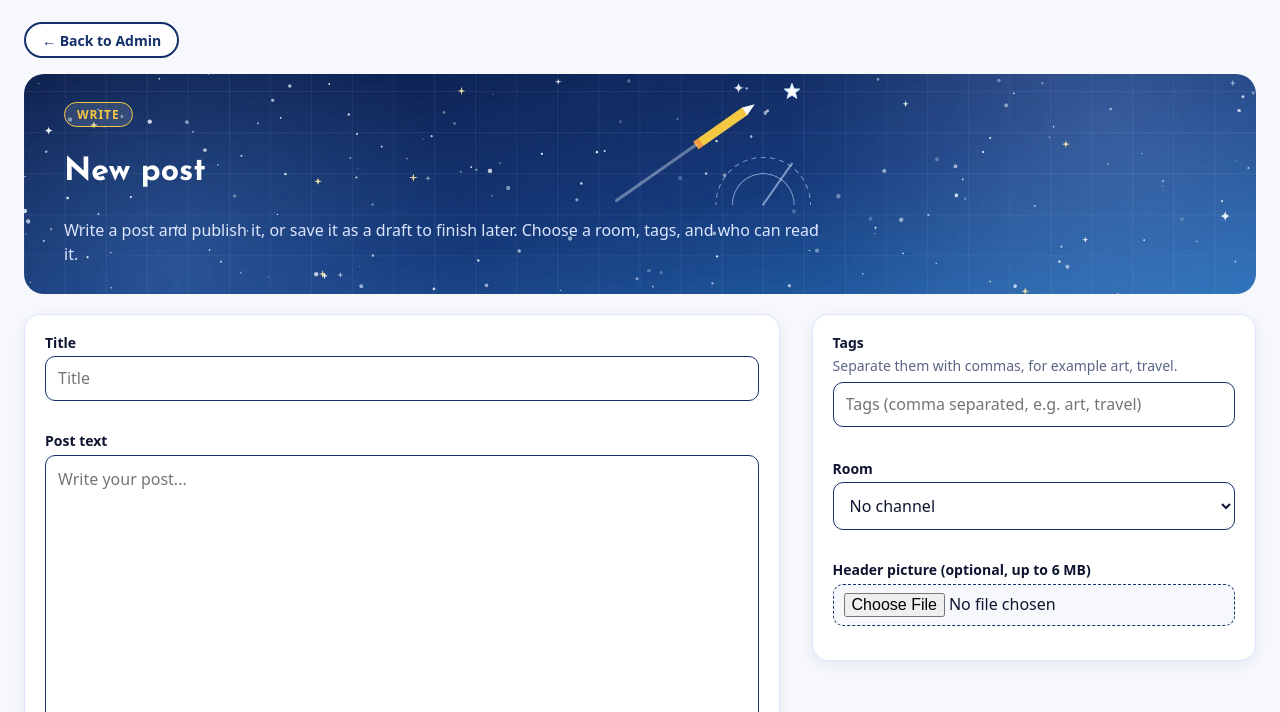
Scenario: New post › says plainly when the database refuses, keeps the form, and does not leave the page
Type "T" into the field labelled "Title" at (402, 379), box [45,356,758,401]
(page scrolled)
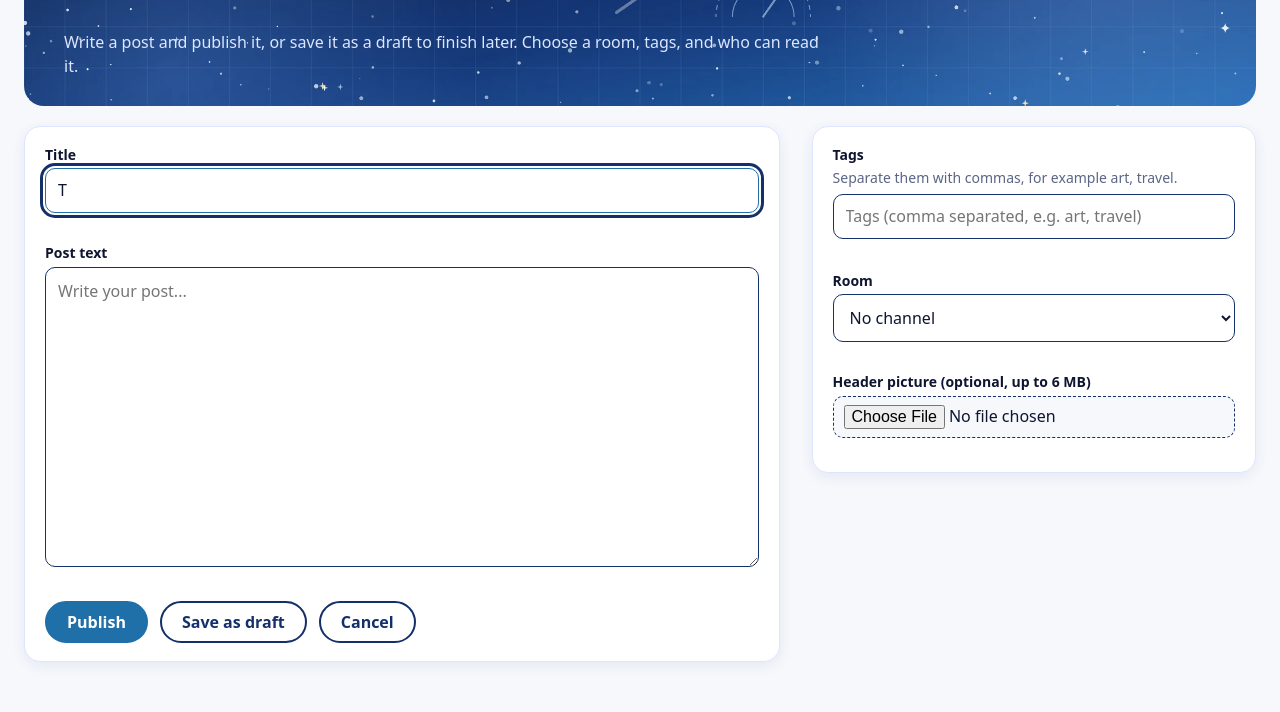
Type "W" into the text box labelled "Post text" at (402, 417), box [45,267,758,567]
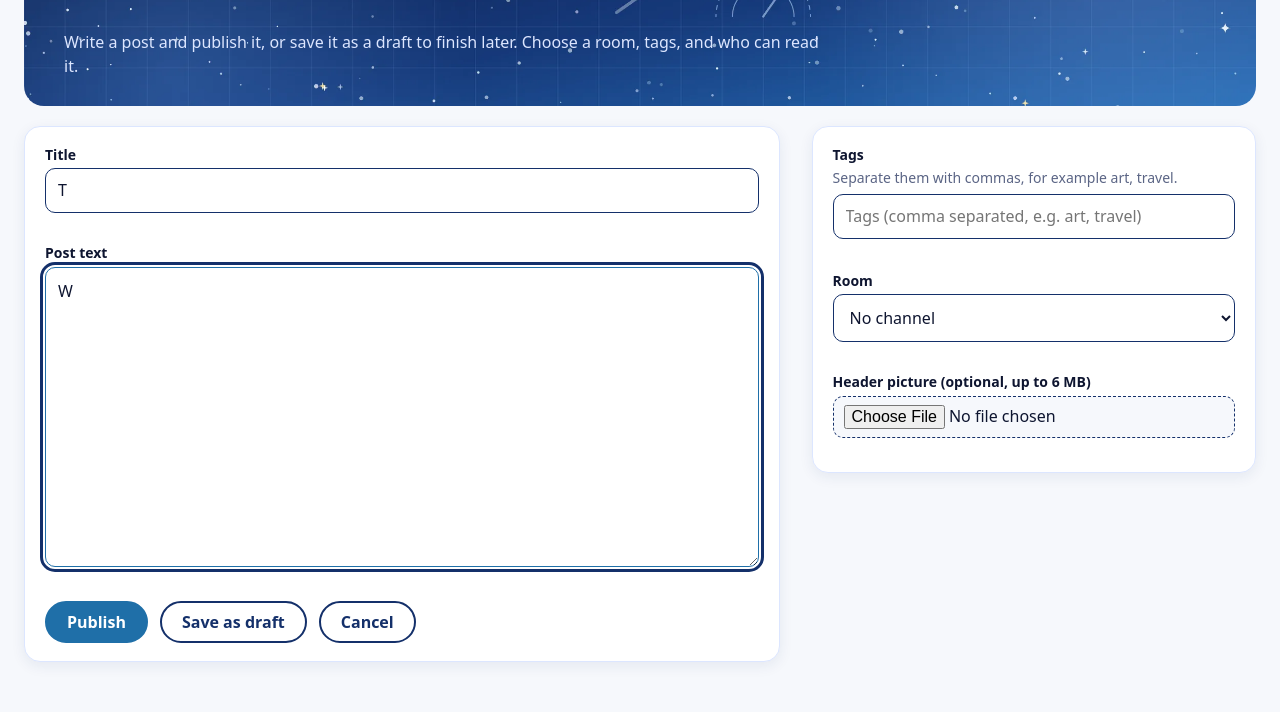
Click the button "Publish" at (96, 622), box [45,601,148,643]
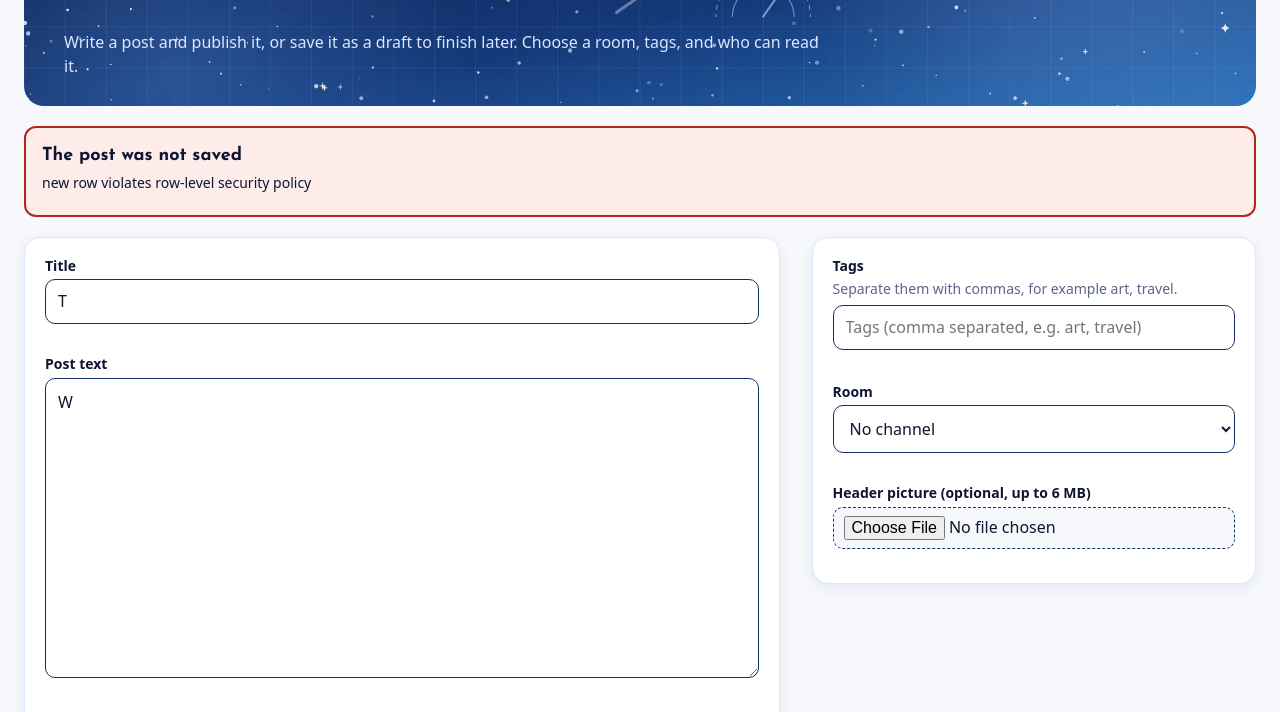
Expected: the heading "The post was not saved" is shown, [42,146,242,165]
